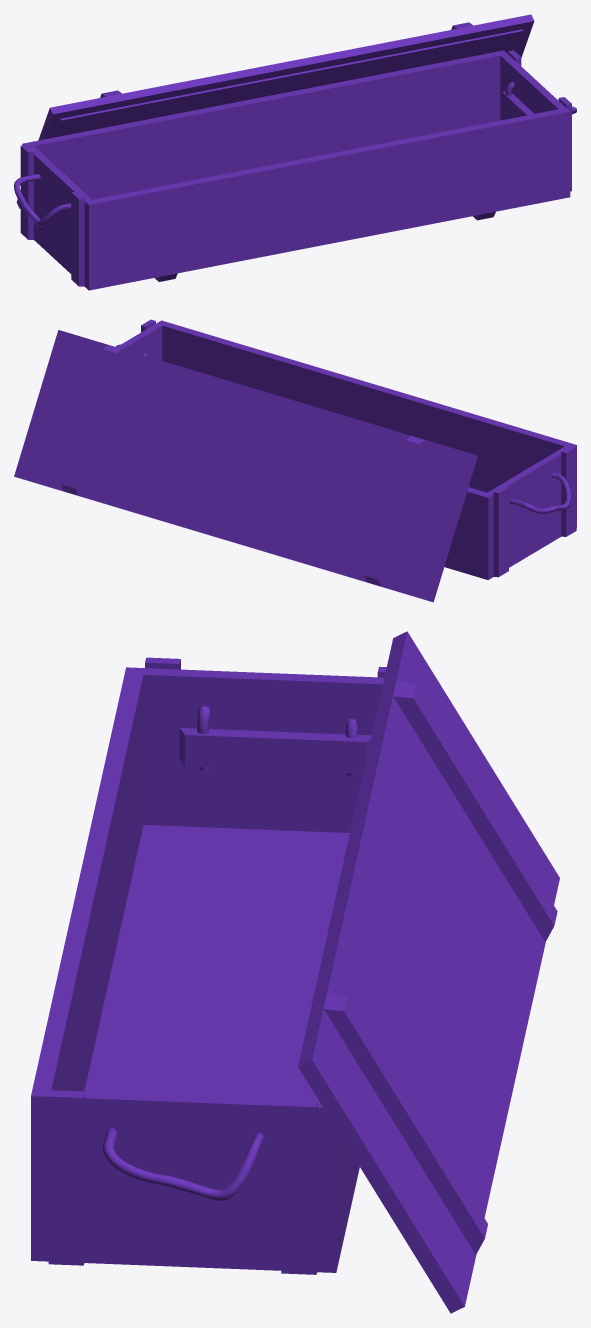
The model's file is Weapon_Box01.fbx.
The picture shows the model from 3 angles, top to bottom: view 1: azimuth 30°, elevation 25°; view 2: azimuth 150°, elevation 25°; view 3: azimuth 270°, elevation 25°; orthographic projection. The views are drawn at different scales.
Parts seen in each view (by area): view 1: Weapon_Box2; view 2: Weapon_Box2; view 3: Weapon_Box2.
Part boxes in pixels (<box>): Weapon_Box2: <box>14,14,576,290</box>; Weapon_Box2: <box>14,319,576,602</box>; Weapon_Box2: <box>31,631,559,1313</box>.
Bounding box in the file's own units: 158 × 37.53 × 72.52.
